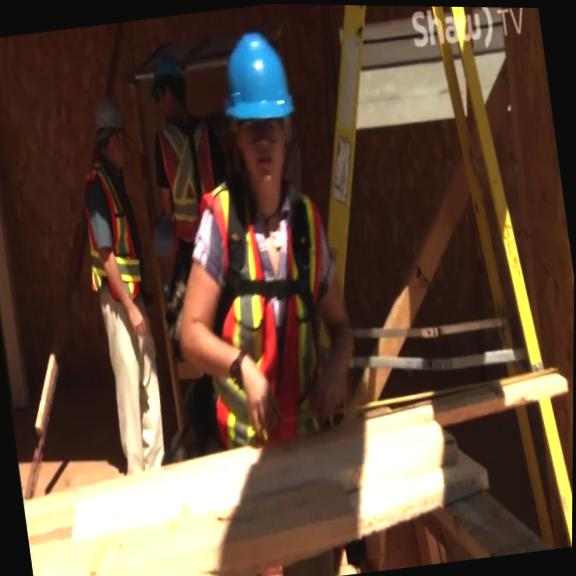safety_vest: (182, 165, 353, 452), (74, 160, 148, 308), (155, 108, 226, 245)
